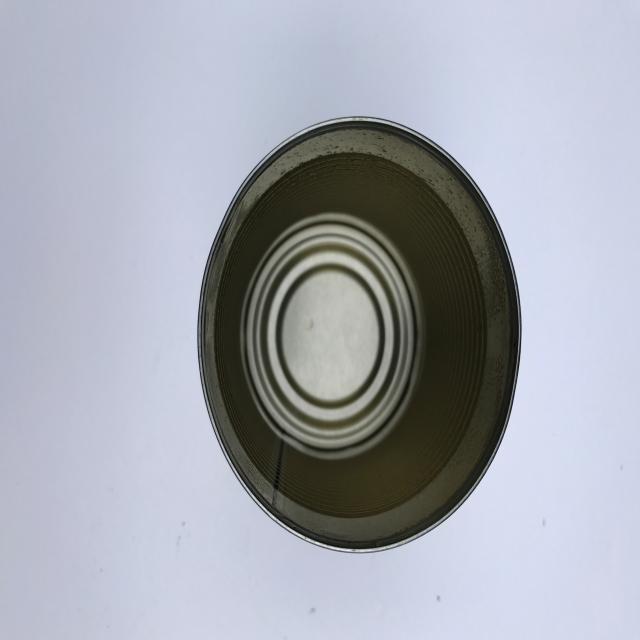metal: (197, 114, 522, 553)
